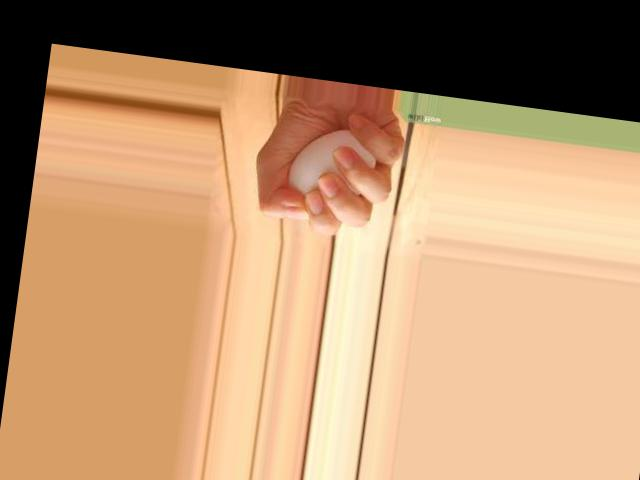egg: (285, 123, 381, 210)
